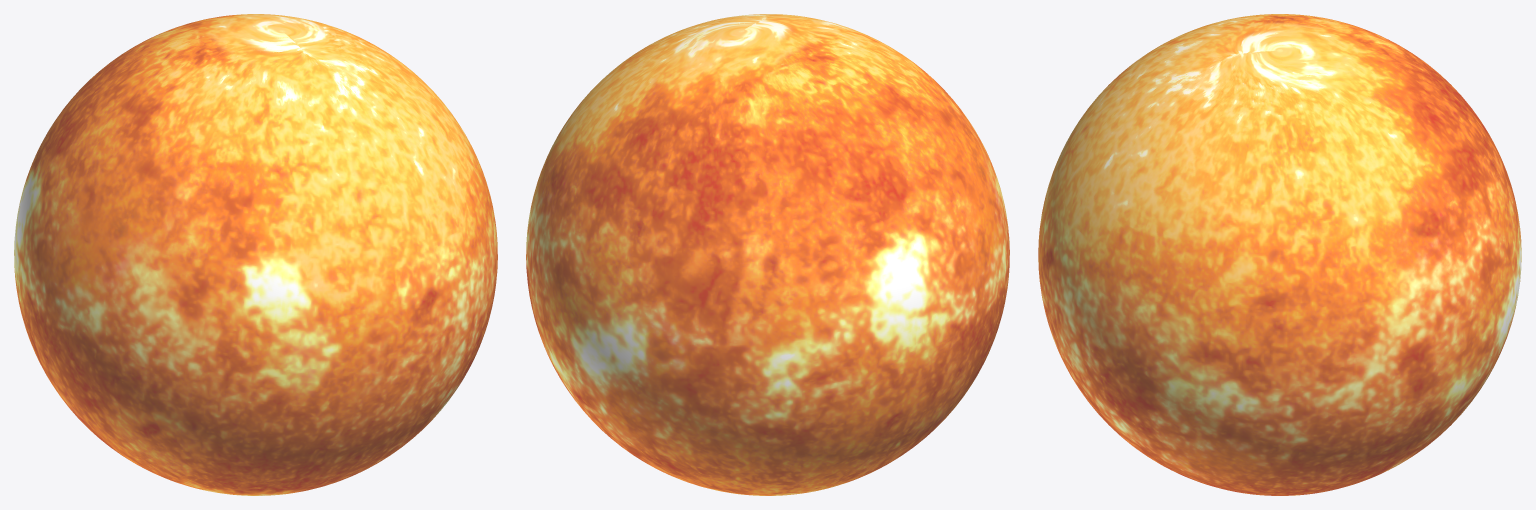
The model's file is sun1.glb.
3 views of the same model, side by side, from view 1: azimuth 30°, elevation 25°; view 2: azimuth 150°, elevation 25°; view 3: azimuth 270°, elevation 25° (orthographic).
Parts seen in each view (by area): view 1: Sun; view 2: Sun; view 3: Sun.
Boxes of the visible parts, <box> form: Sun: <box>14,14,497,495</box>; Sun: <box>526,14,1009,495</box>; Sun: <box>1038,14,1521,495</box>.
Size of the model in its own units: 10 by 9.97 by 10.
Materials: 1 (1 with a texture image).
